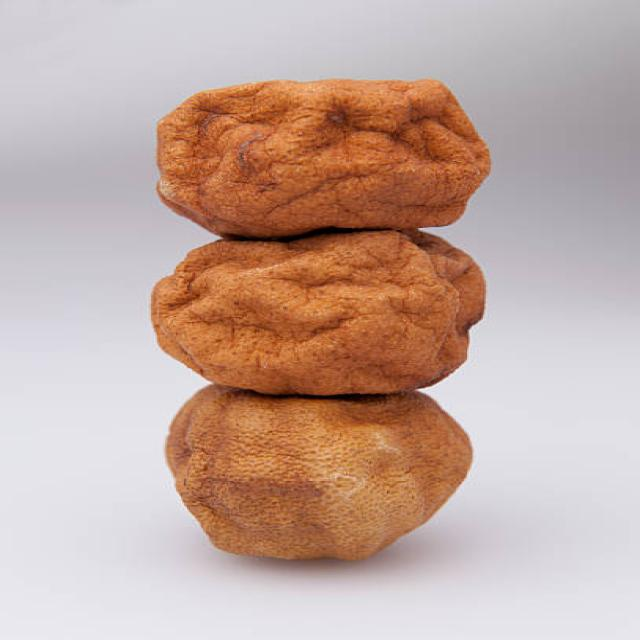overripe: (146, 230, 492, 401), (154, 387, 480, 568), (144, 76, 498, 232)
